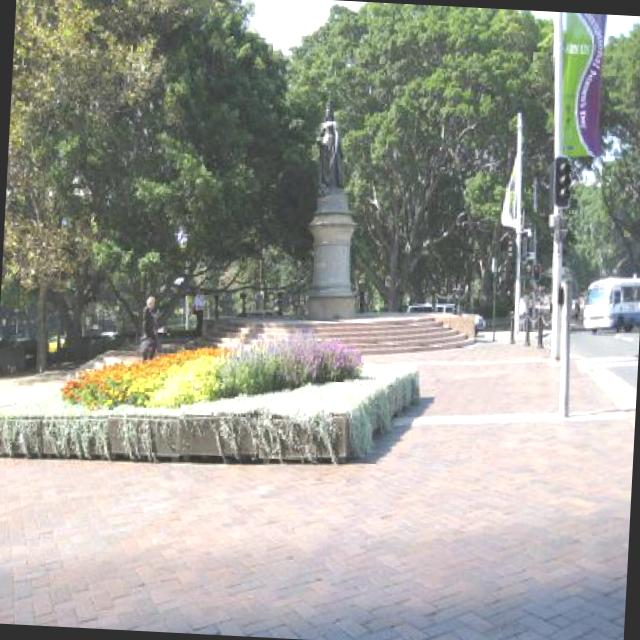Person: (140, 294, 162, 366), (192, 285, 209, 337), (574, 296, 580, 320)
